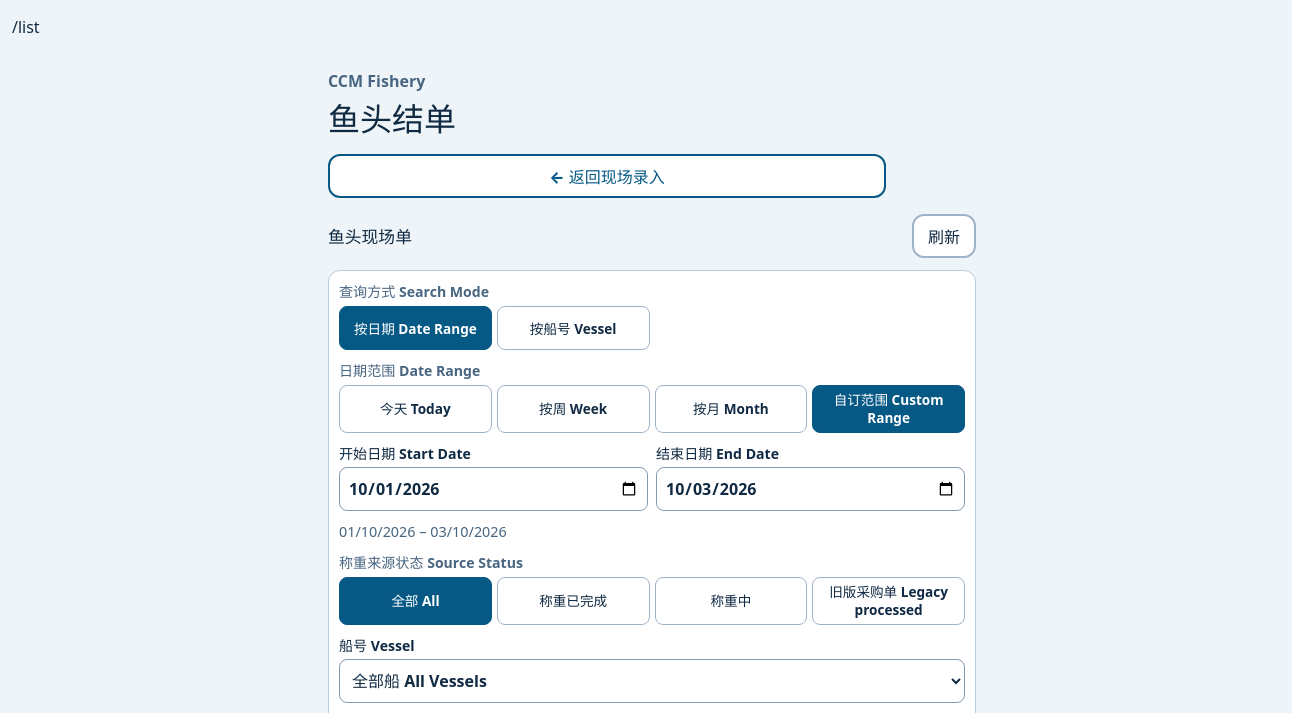
Scenario: fish_head shared date-first search › rejects missing custom dates
Clear the date field labelled "开始日期 Start Date". click: (494, 489)
box: [339, 467, 648, 511]
(page scrolled)
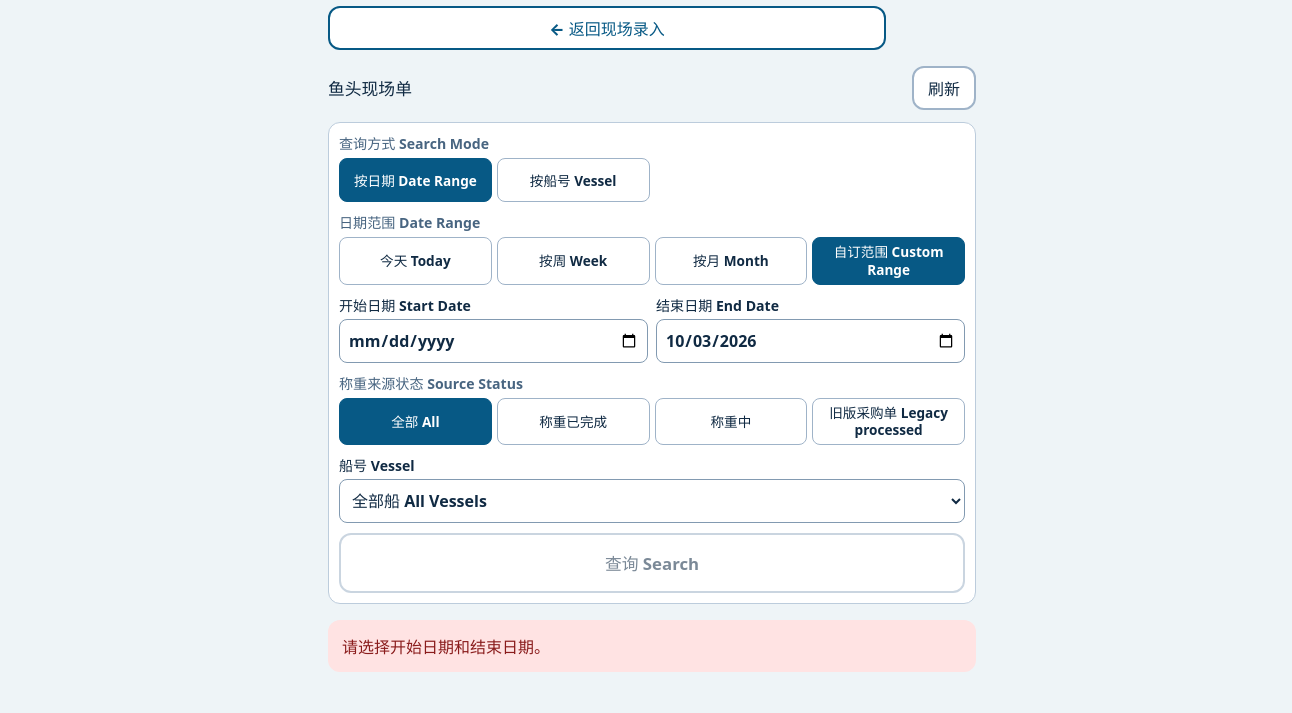
Expected: the message shows "请选择开始日期和结束日期", [342, 636, 550, 658]
